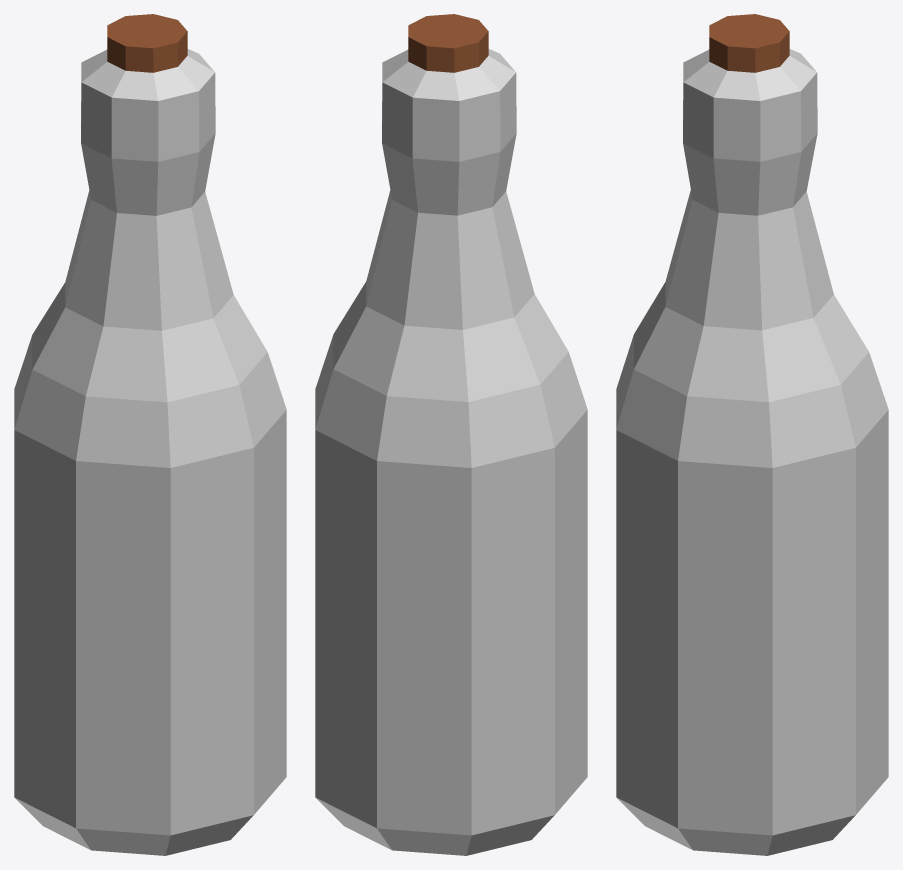
Rendered from MilkBottle.fbx.
3 renders of one model, left to right at view 1: azimuth 30°, elevation 25°; view 2: azimuth 150°, elevation 25°; view 3: azimuth 270°, elevation 25°, orthographic.
Visible parts, largest first — view 1: Cube.061; view 2: Cube.061; view 3: Cube.061.
Boxes of the visible parts, x1,y1,x2,y2 form: Cube.061: [14, 14, 286, 855]; Cube.061: [315, 14, 587, 855]; Cube.061: [616, 14, 888, 855].
Size of the model in its own units: 20.66 by 64.17 by 20.34.
